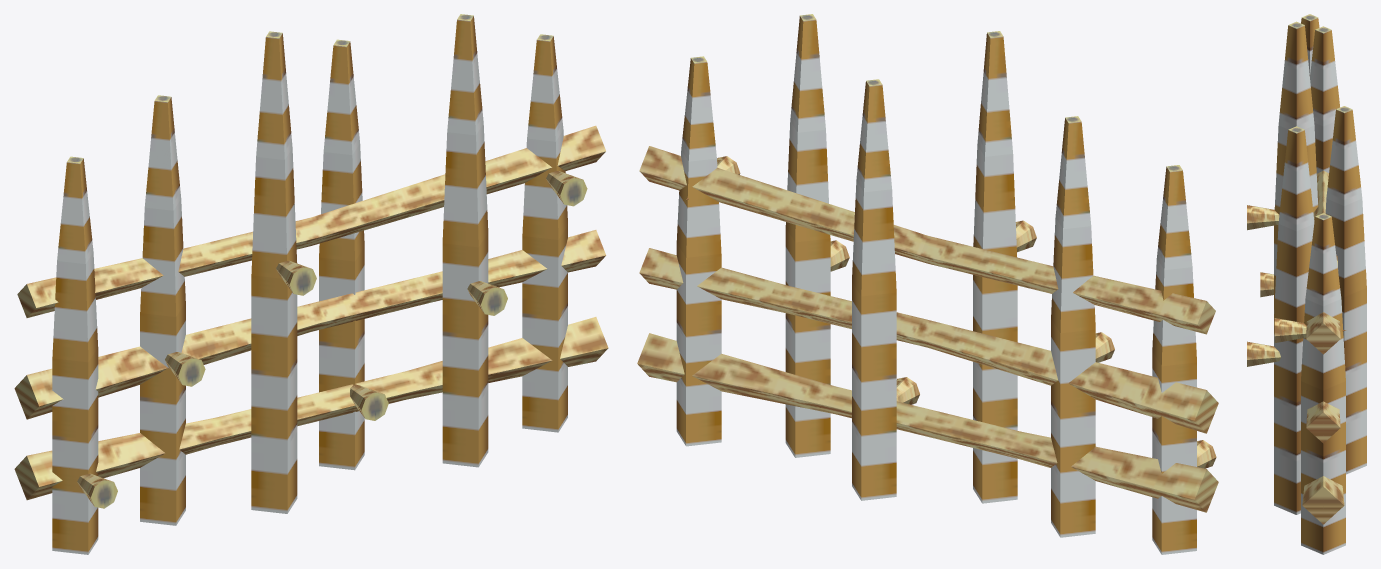
File: coronafence.dae
3 renders of one model, left to right at view 1: azimuth 30°, elevation 25°; view 2: azimuth 150°, elevation 25°; view 3: azimuth 270°, elevation 25°, orthographic. The views are drawn at different scales.
Parts seen in each view (by area): view 1: m0; view 2: m0; view 3: m0.
Part boxes in pixels (<box>): m0: <box>14,14,608,554</box>; m0: <box>637,14,1218,554</box>; m0: <box>1247,14,1366,554</box>.
Bounding box in the file's own units: 834 × 657 × 178.
1 material, 1 textured.
